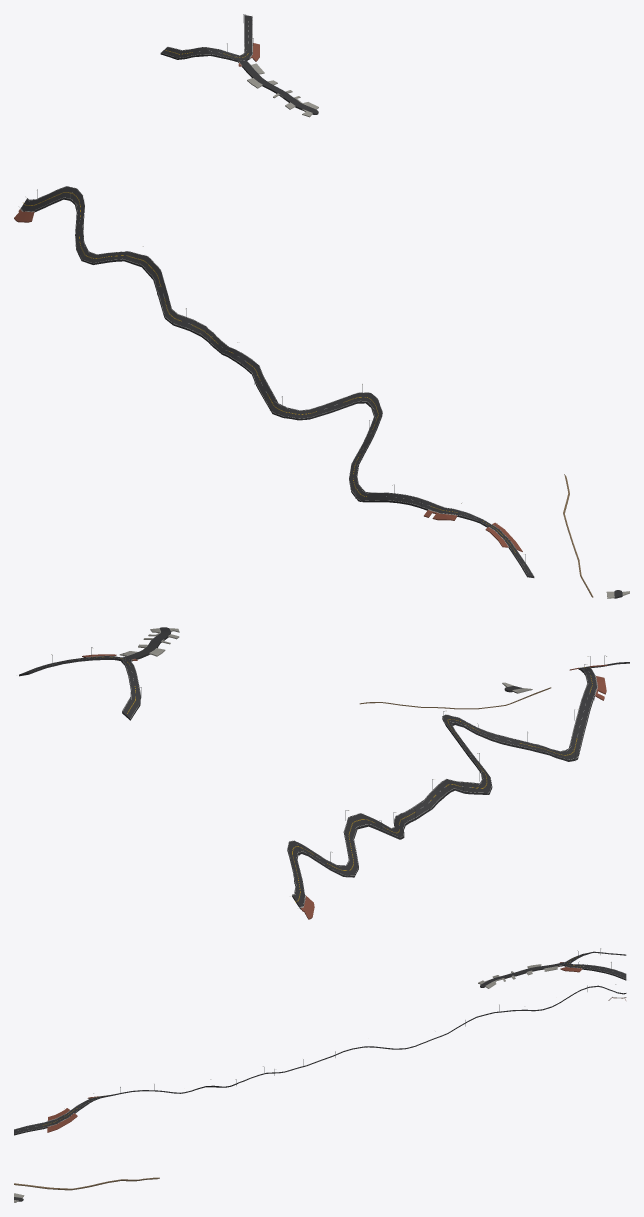
File: 16-54729-29740.beff30b0.glb
3 renders of one model, top to bottom at view 1: azimuth 30°, elevation 25°; view 2: azimuth 150°, elevation 25°; view 3: azimuth 270°, elevation 25°, orthographic. The views are drawn at different scales.
Size of the model in its own units: 220 by 252 by 587.
